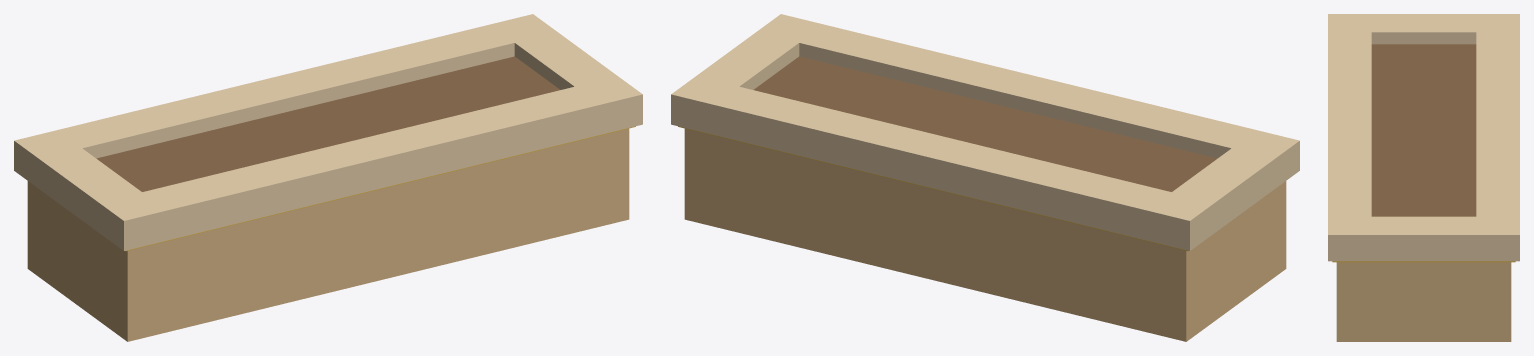
File: planter-trough.lod1.glb
The picture shows the model from 3 angles, left to right: view 1: azimuth 30°, elevation 25°; view 2: azimuth 150°, elevation 25°; view 3: azimuth 270°, elevation 25°; orthographic projection. The views are drawn at different scales.
Parts seen in each view (by area): view 1: planter-trough_lod1; view 2: planter-trough_lod1; view 3: planter-trough_lod1.
Boxes of the visible parts, left/top/right/bottom form: planter-trough_lod1: left=14, top=14, right=642, bottom=341; planter-trough_lod1: left=671, top=14, right=1299, bottom=341; planter-trough_lod1: left=1328, top=14, right=1519, bottom=341.
Bounding box in the file's own units: 1.8 × 0.42 × 0.66.
